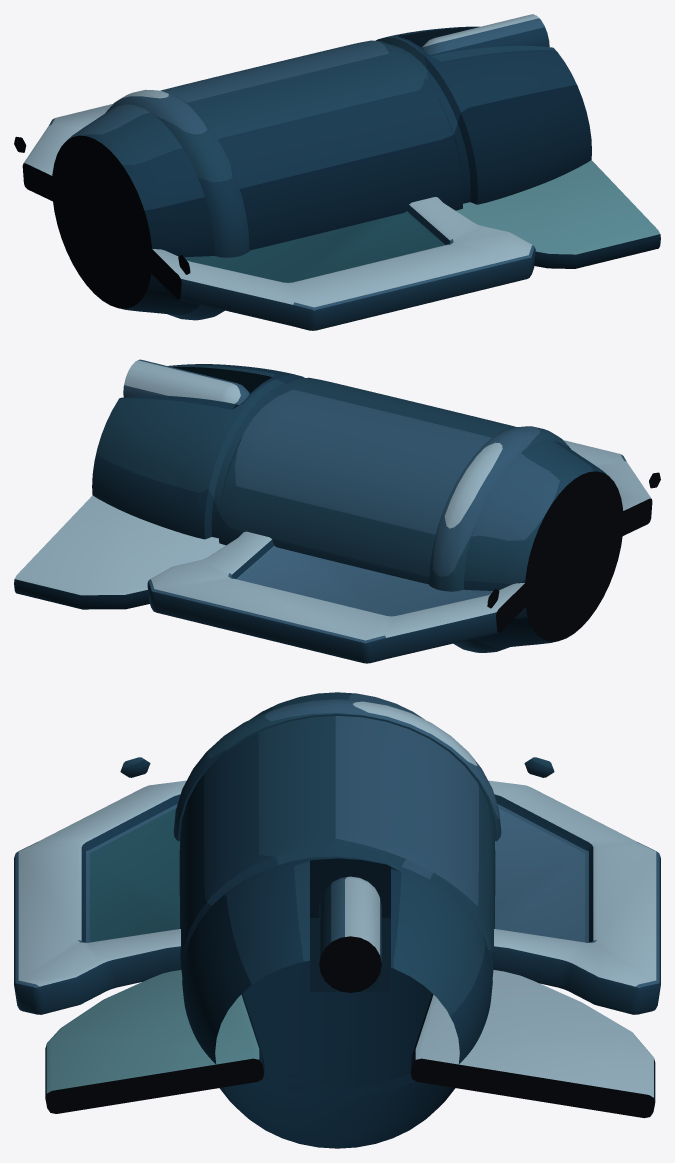
Rendered from cruiser_mid.glb.
3 renders of one model, top to bottom at view 1: azimuth 30°, elevation 25°; view 2: azimuth 150°, elevation 25°; view 3: azimuth 270°, elevation 25°, orthographic. The views are drawn at different scales.
Parts seen in each view (by area): view 1: cruiser_mid; view 2: cruiser_mid; view 3: cruiser_mid.
Part boxes in pixels (<box>): cruiser_mid: <box>14,14,660,330</box>; cruiser_mid: <box>14,359,660,663</box>; cruiser_mid: <box>14,692,660,1148</box>.
Size of the model in its own units: 24 by 10.8 by 24.82.
